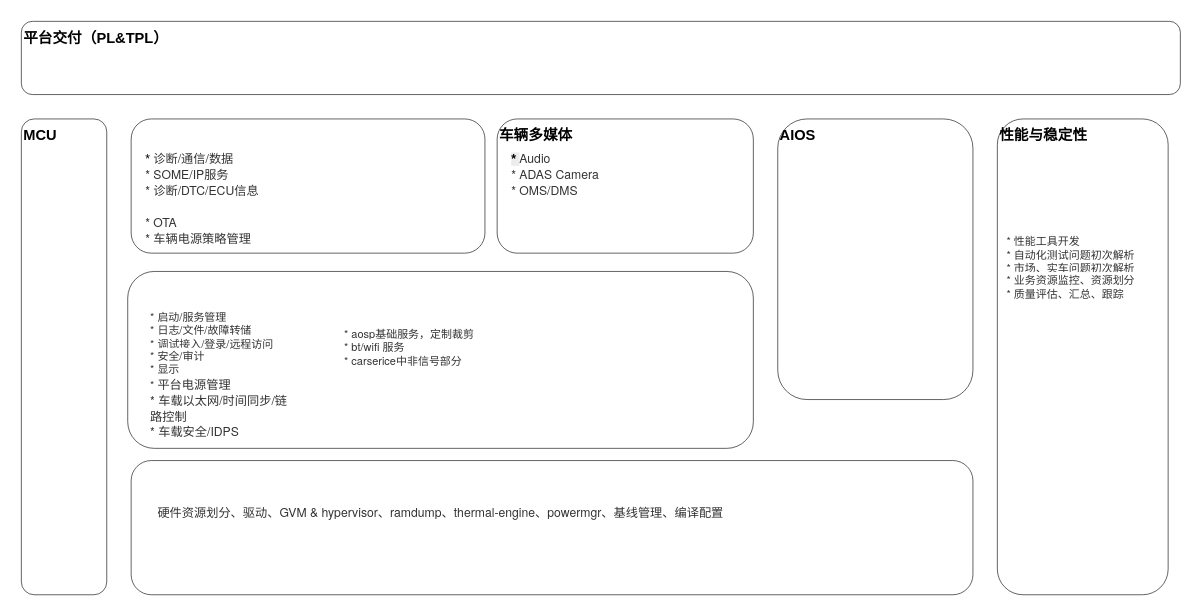
The diagram is 1202 pixels wide and 616 high, and some of its shapes have lost their labels. Here are the shapes that lost their labels. From the top down, the box of each, then its label:
(130, 118, 485, 253): 车辆服务
(127, 271, 753, 448): OS基础设施
(130, 460, 973, 595): BSP
